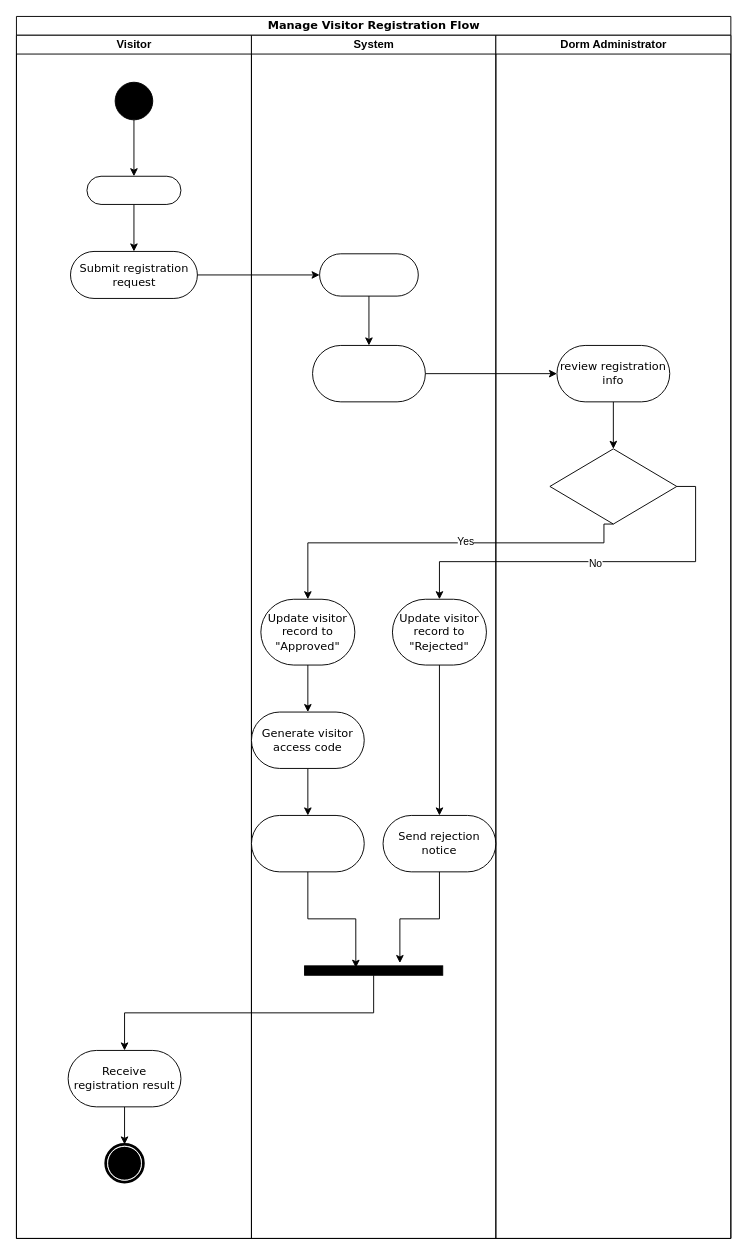
The diagram is 747 pixels wide and 1255 high, and some of its shapes have lost their labels. The centre of each missing label's shape, as x and y in pixels:
"Approve?" belongs at (613,486).
"Create visitor record" belongs at (368,274).
"Fill in visitor information" belongs at (133,189).
"Notify Security Staff of new registration" belongs at (368,373).
"Send approval notice and code to Student/Visitor" belongs at (307,843).
